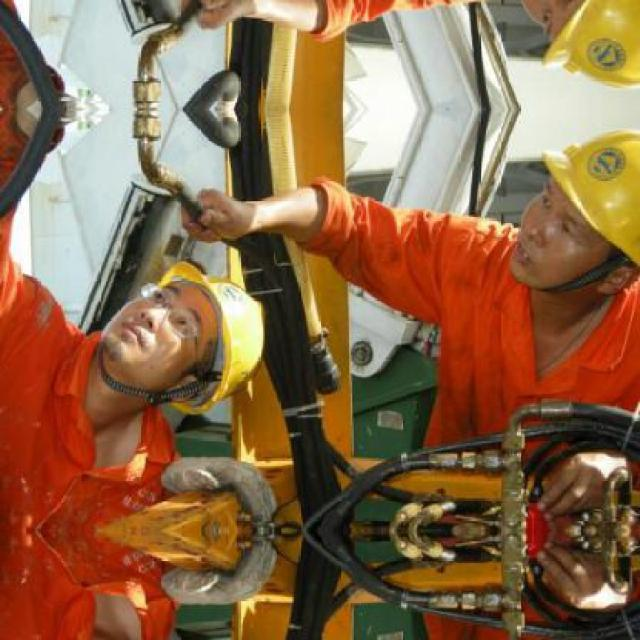helmet: (506, 115, 636, 313), (113, 258, 265, 418), (506, 0, 637, 102)
